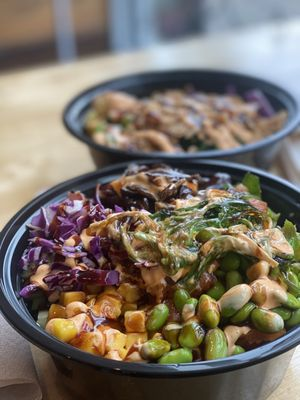sushi: (0, 160, 300, 389), (65, 67, 300, 170)
